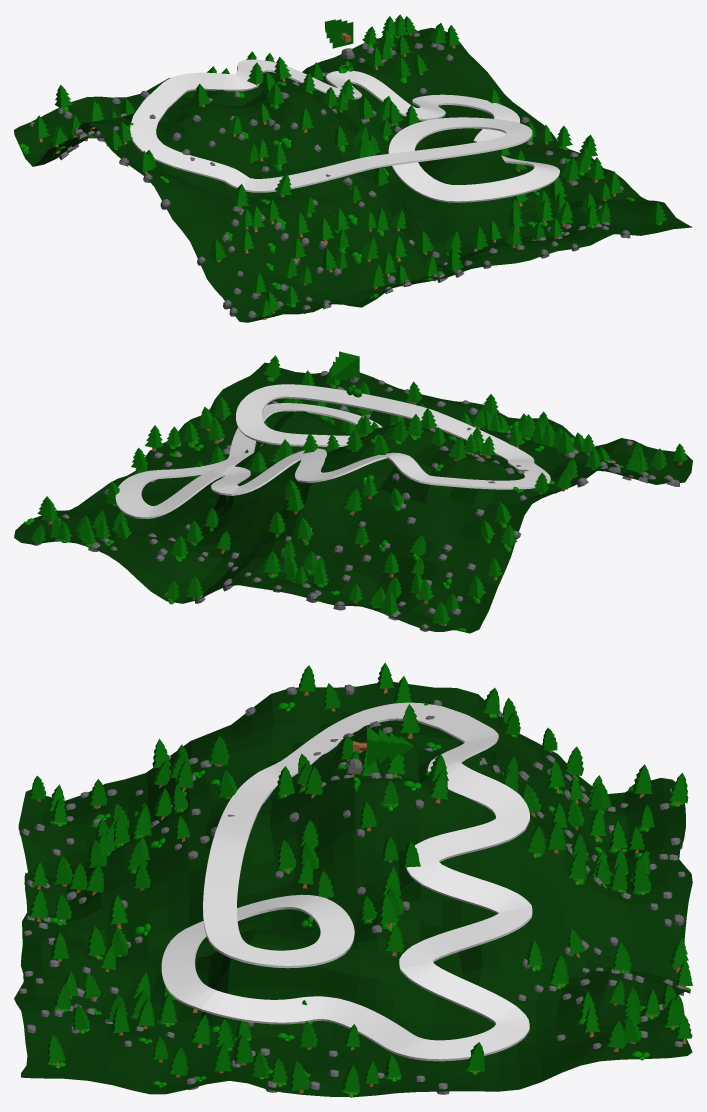
Rendered from Track4.fbx.
3 renders of one model, top to bottom at view 1: azimuth 30°, elevation 25°; view 2: azimuth 150°, elevation 25°; view 3: azimuth 270°, elevation 25°, orthographic. The views are drawn at different scales.
Parts seen in each view (by area): view 1: Plane, Road, PineTree; view 2: Plane, Road, PineTree; view 3: Plane, Road, PineTree.
Boxes of the visible parts, <box> form: Plane: <box>14,27,692,322</box>; Road: <box>130,59,559,202</box>; PineTree: <box>324,19,353,48</box>; Plane: <box>14,362,692,633</box>; Road: <box>115,384,550,518</box>; PineTree: <box>331,351,359,380</box>; Plane: <box>14,681,692,1097</box>; Road: <box>161,702,532,1061</box>; PineTree: <box>353,726,414,766</box>.
Bounding box in the file's own units: 8118 × 2948 × 8011.
